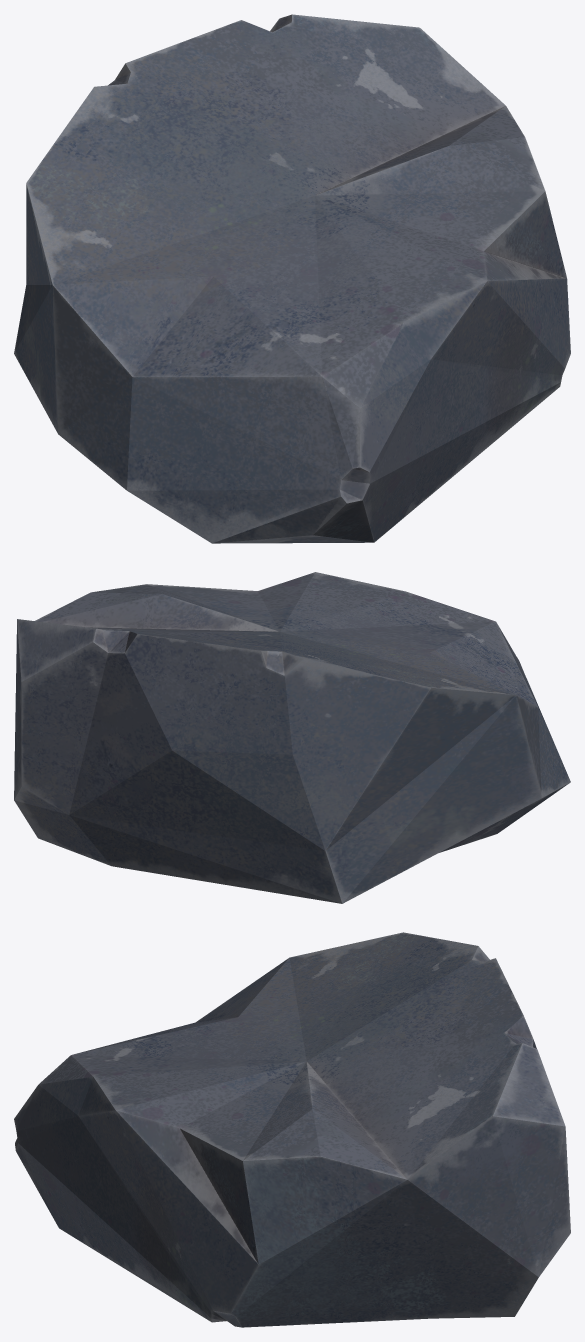
The model's file is Rock4.fbx.
The picture shows the model from 3 angles, top to bottom: view 1: azimuth 30°, elevation 25°; view 2: azimuth 150°, elevation 25°; view 3: azimuth 270°, elevation 25°; orthographic projection. The views are drawn at different scales.
Visible parts, largest first — view 1: stylized_rock_69; view 2: stylized_rock_69; view 3: stylized_rock_69.
Boxes of the visible parts, box(x1,y1,x2,y2) form: stylized_rock_69: box(14, 14, 570, 543); stylized_rock_69: box(14, 572, 570, 903); stylized_rock_69: box(14, 932, 570, 1327).
Size of the model in its own units: 4076 by 2348 by 4146.
Materials: 1 (1 with a texture image).
